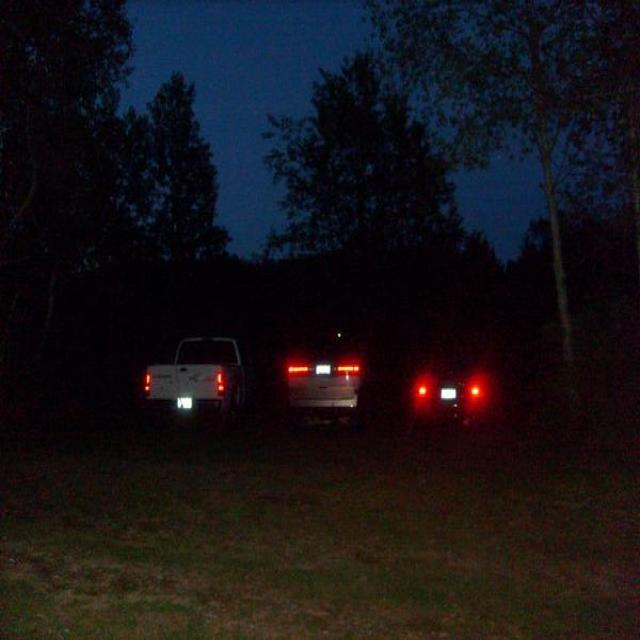Car: (136, 340, 248, 437), (272, 330, 369, 428), (412, 350, 495, 438)
